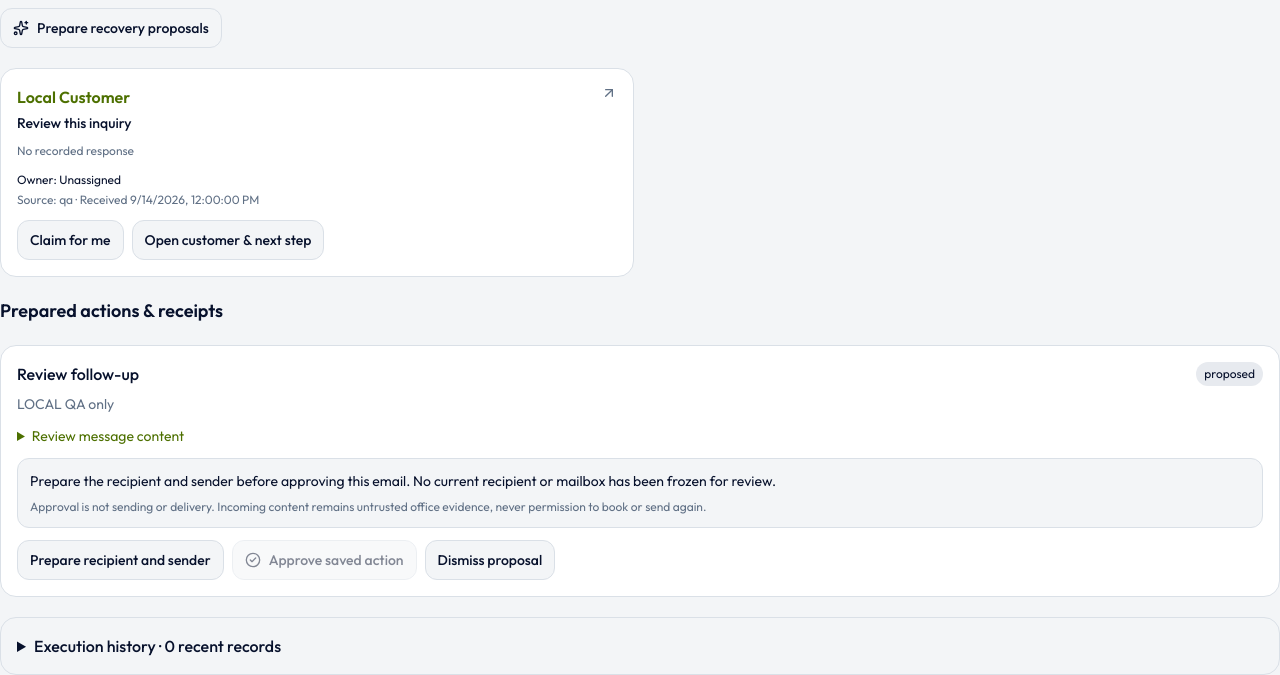
Test: Revenue Desk workflows › requires explicit prepare, displays exact frozen recipient and sender, then approves the complete saved payload
(page scrolled)
Expected: the link "Review follow-up" is shown, [17, 362, 139, 386]
Click the heading "Review message content": (108, 436) [32, 427, 184, 445]
(page scrolled)
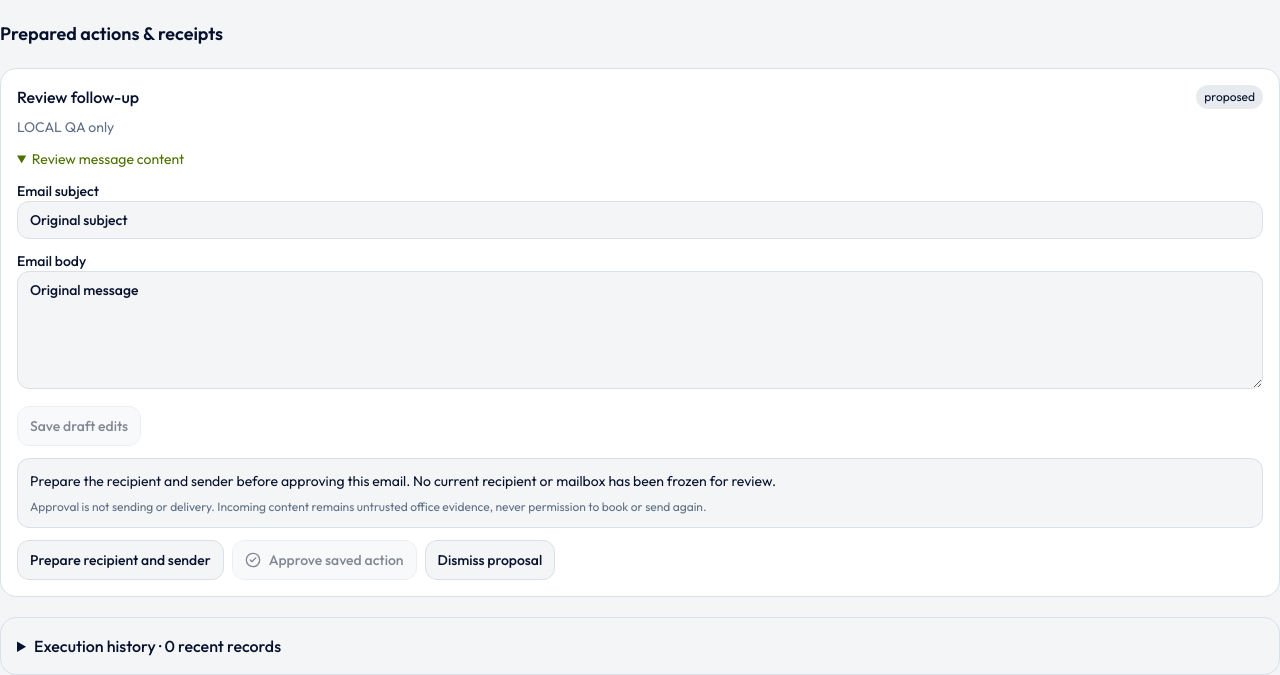
Expected: the button "Approve saved action" is disabled, [232, 540, 416, 580]
Click the button "Prepare recipient and sender": (120, 560) [17, 540, 224, 580]
(page scrolled)
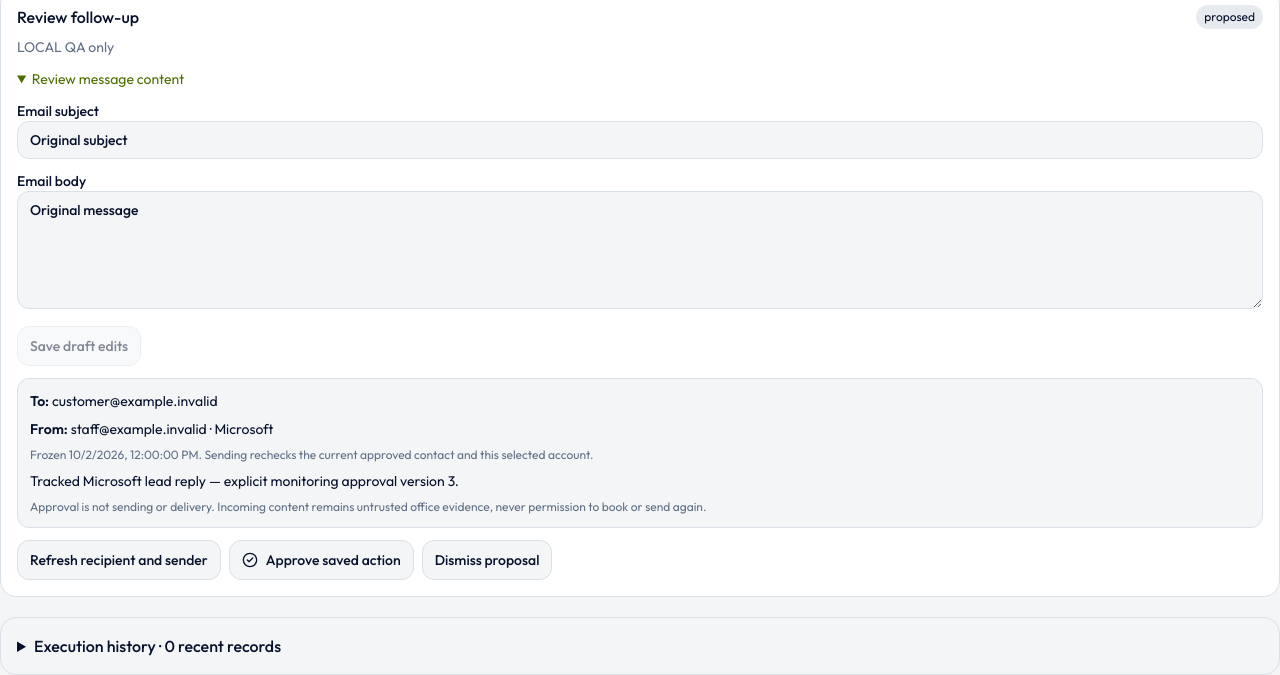
Now the text "To: customer@example.invalid" is shown, box [30, 392, 218, 410]
Now the text "From: staff@example.invalid · Microsoft" is shown, box [30, 420, 274, 438]
Now the text "Tracked Microsoft lead reply" is shown, box [30, 472, 459, 490]
Click the button "Approve saved action": (321, 560) [229, 540, 414, 580]
(page scrolled)
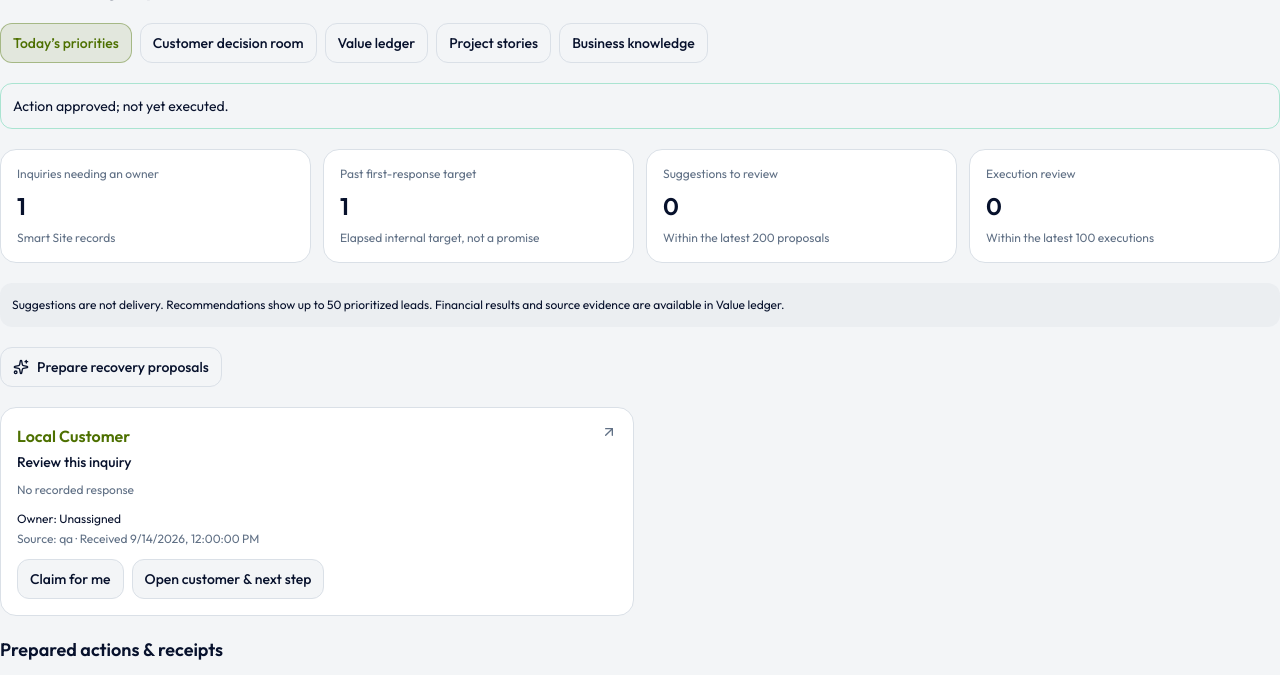
Now the text "Action approved; not yet executed." is shown, box [0, 83, 1279, 129]
